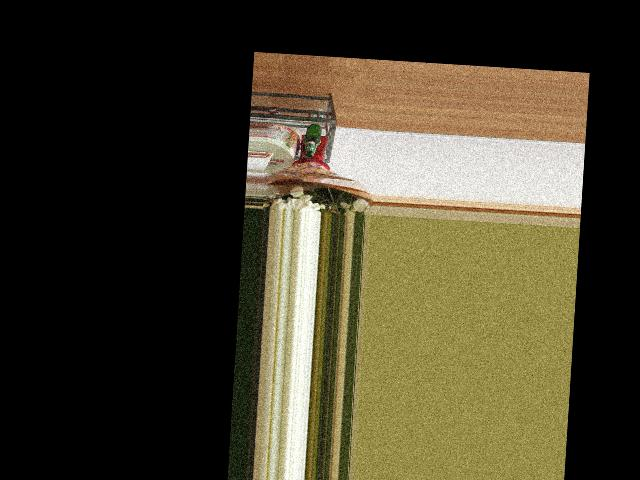beer: (302, 122, 321, 158)
